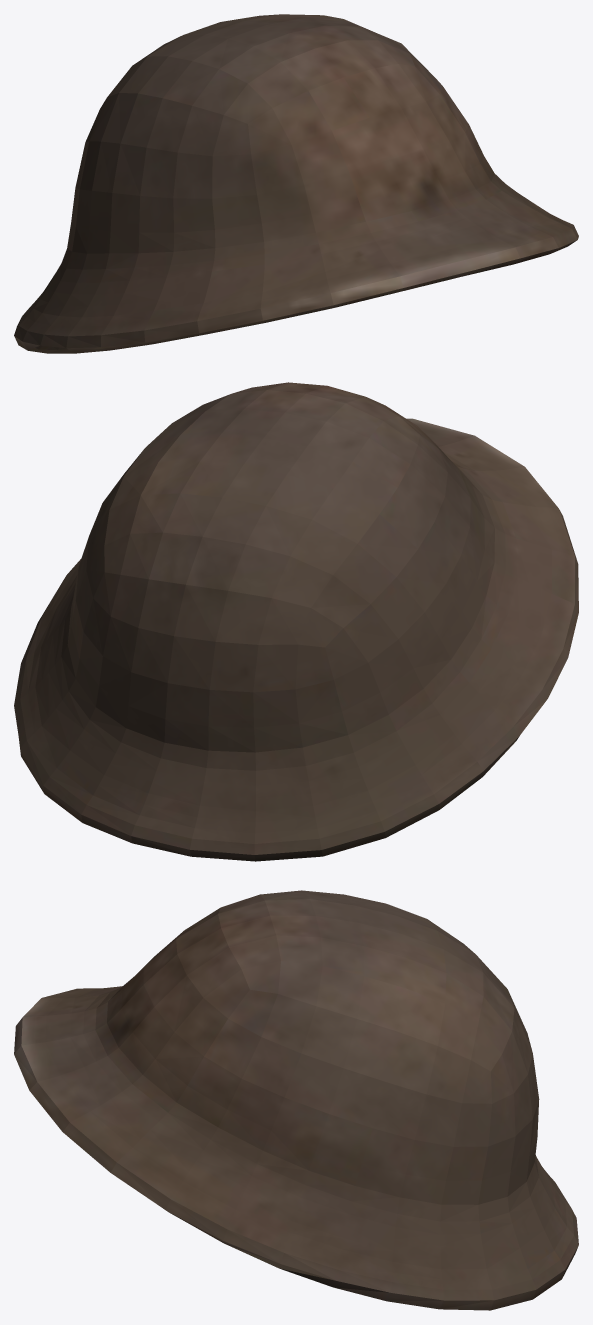
Rendered from rattlejack_helmet.glb.
3 renders of one model, top to bottom at view 1: azimuth 30°, elevation 25°; view 2: azimuth 150°, elevation 25°; view 3: azimuth 270°, elevation 25°, orthographic. The views are drawn at different scales.
Parts seen in each view (by area): view 1: Helmet; view 2: Helmet; view 3: Helmet.
Boxes of the visible parts, x1,y1,x2,y2 form: Helmet: [14, 14, 578, 353]; Helmet: [14, 382, 578, 861]; Helmet: [14, 890, 578, 1310].
Size of the model in its own units: 0.3117 by 0.21 by 0.325.
Materials: 2 (1 with a texture image).
